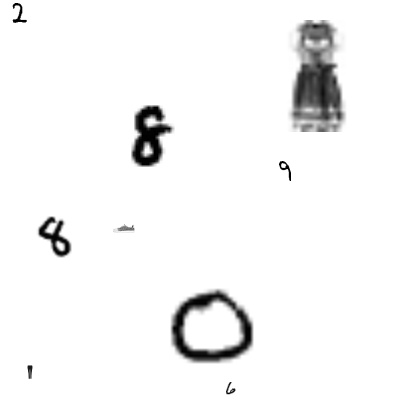0: (152, 270, 264, 382)
2: (4, 0, 32, 28)
6: (219, 377, 241, 399)
8: (105, 94, 189, 178), (27, 209, 83, 265)
9: (271, 154, 299, 182)
Dress: (261, 20, 373, 132)
Sneaker: (113, 217, 135, 239)
Trouser: (23, 365, 37, 379)
